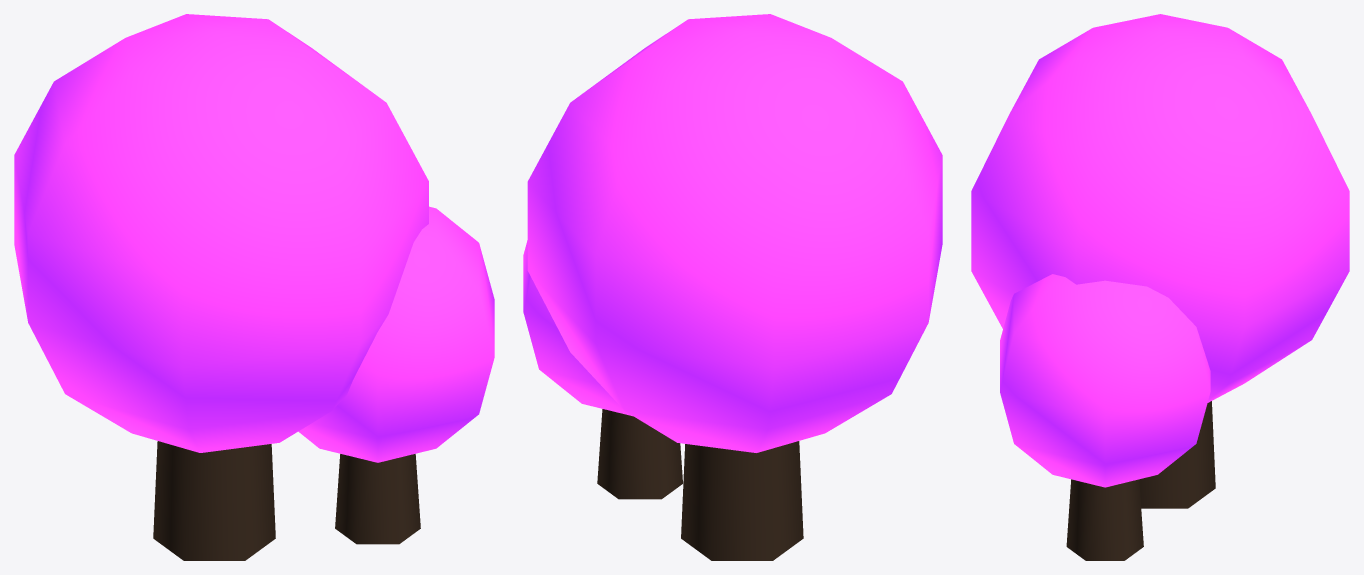
File: mushroom_cluster_a.glb
The picture shows the model from 3 angles, left to right: view 1: azimuth 30°, elevation 25°; view 2: azimuth 150°, elevation 25°; view 3: azimuth 270°, elevation 25°; orthographic projection. The views are drawn at different scales.
Bounding box in the file's own units: 0.821 × 0.91 × 0.6843.
